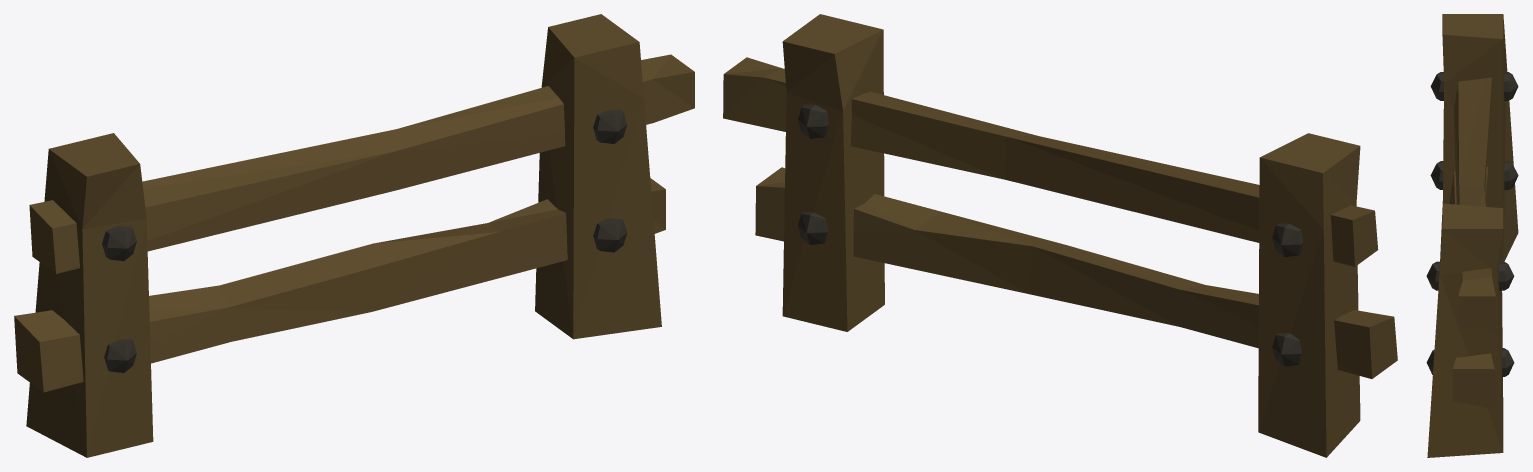
Rendered from fence_mesh.fbx.
3 renders of one model, left to right at view 1: azimuth 30°, elevation 25°; view 2: azimuth 150°, elevation 25°; view 3: azimuth 270°, elevation 25°, orthographic. The views are drawn at different scales.
Visible parts, largest first — view 1: Nail; view 2: Nail; view 3: Nail.
Part boxes in pixels (bbox=[...]): Nail: bbox=[14, 14, 694, 457]; Nail: bbox=[723, 14, 1397, 457]; Nail: bbox=[1426, 14, 1518, 457].
Bounding box in the file's own units: 238 × 36.19 × 97.22.
